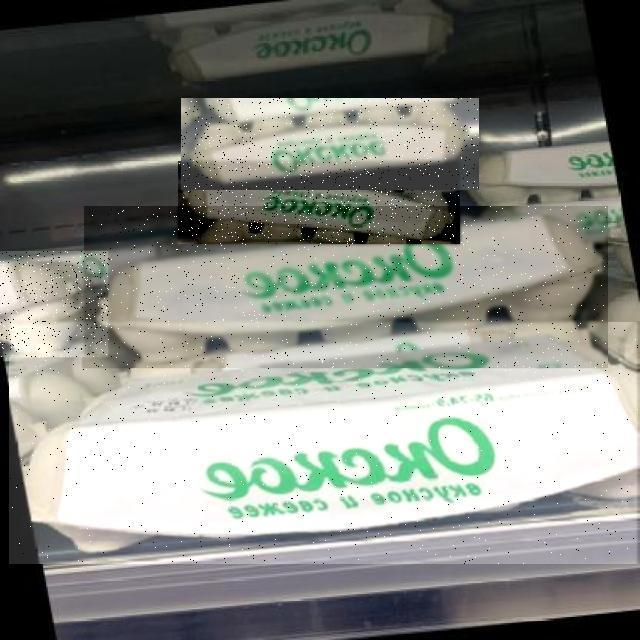Eggs: (10, 322, 640, 564), (84, 206, 608, 368), (181, 98, 479, 190), (178, 161, 460, 244), (0, 251, 108, 357)
